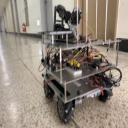cart: (38, 38, 122, 124)
